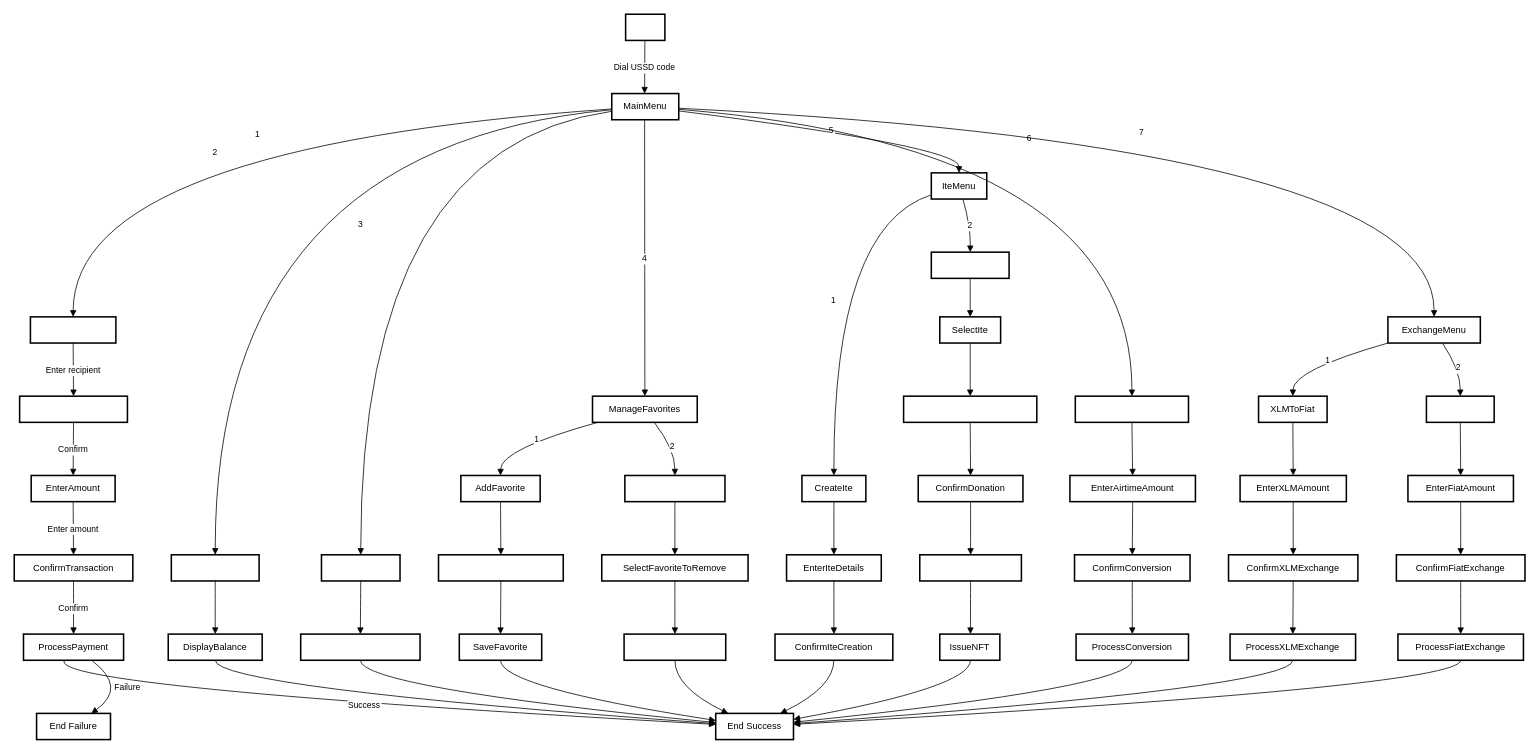
The diagram is 1538 pixels wide and 753 high, and some of its shapes have lost their labels. The centre of each missing label's shape, as x and y in pixels:
AirtimeConversion: the point at 1131,409
CheckBalance: the point at 214,567
ConfirmRecipient: the point at 73,409
ConfirmRemoval: the point at 674,647
DisplayTransactions: the point at 360,647
DonateToIte: the point at 969,265
EnterDonationAmount: the point at 969,409
EnterFavoriteDetails: the point at 500,567
FiatToXLM: the point at 1460,409
ProcessDonation: the point at 970,567
RemoveFavorite: the point at 674,488
SendPayment: the point at 72,329
Start: the point at 644,27
ViewHistory: the point at 360,567
